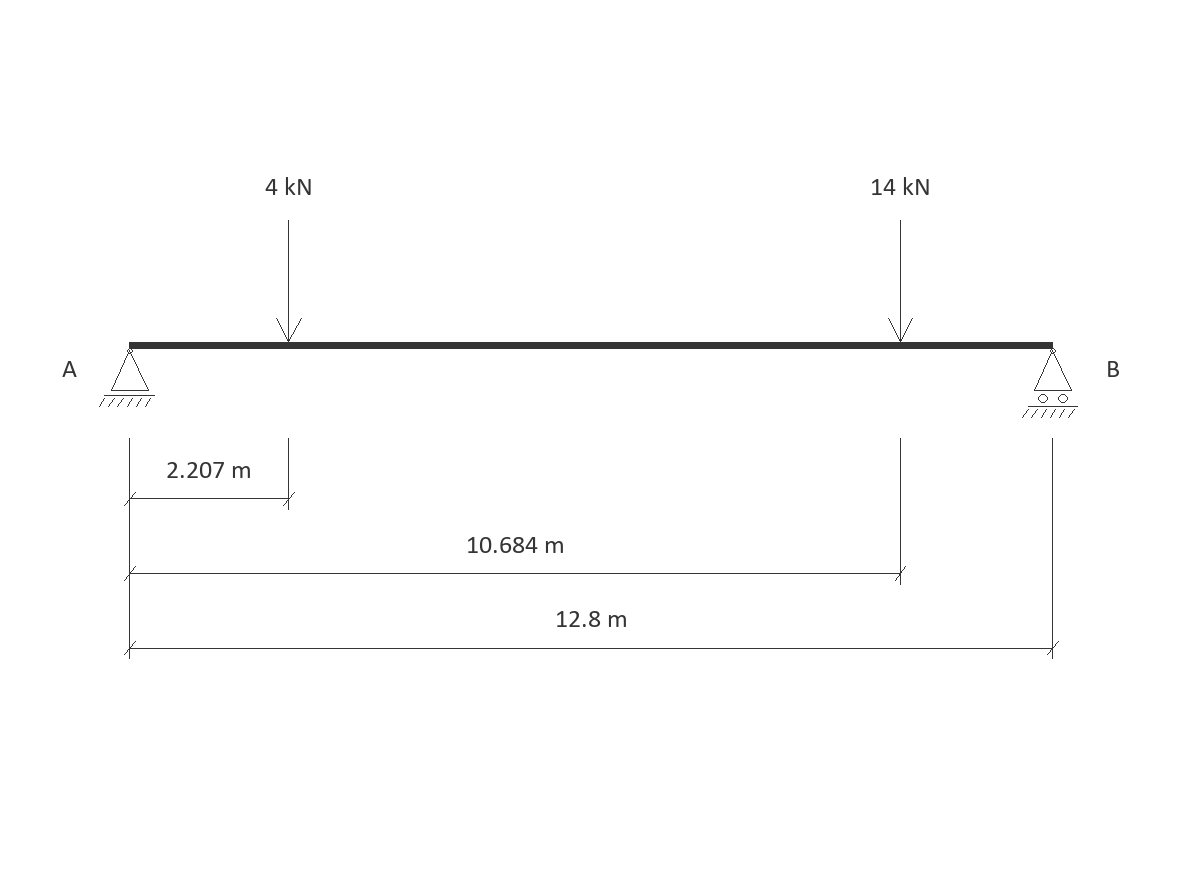pin_support: (99, 348, 155, 407)
point_load: (276, 220, 302, 342), (888, 220, 913, 342)
roller_support: (1022, 348, 1078, 418)
